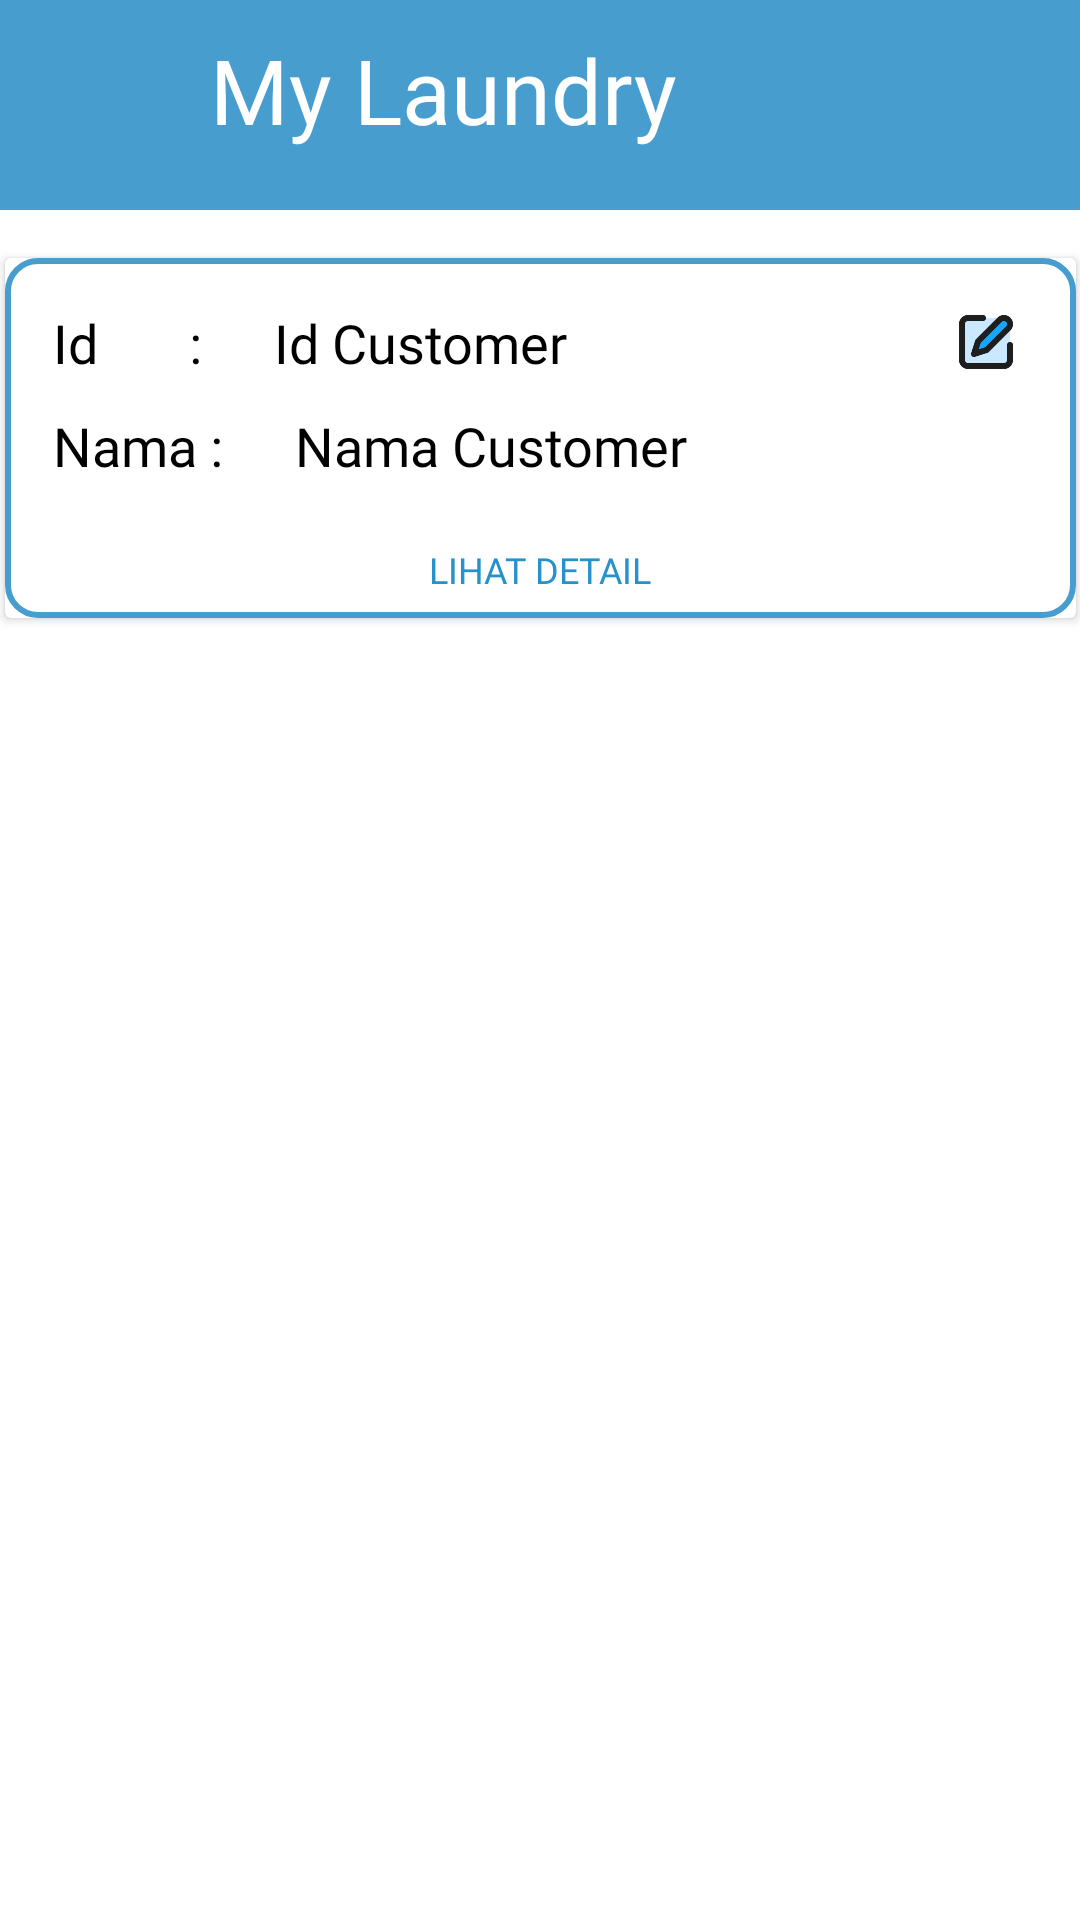

Screen size 1080×1920. Icon name, then its center in pixels as [x,y]:
edit free: [986,342]
